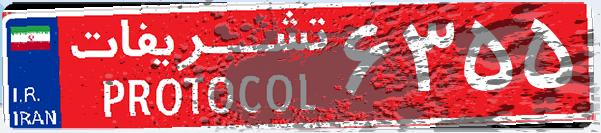3: (400, 20, 460, 115)
5: (460, 20, 520, 115), (520, 20, 580, 115)
6: (340, 20, 400, 115)
تشریفات: (60, 8, 340, 125)
